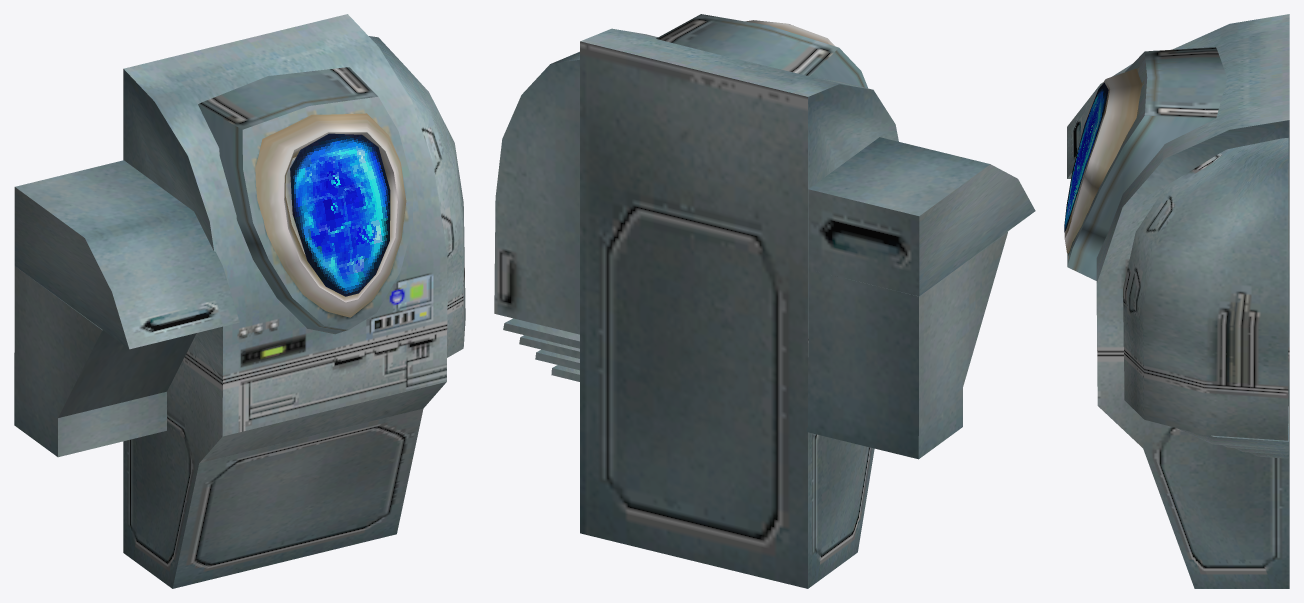
Rendered from eqp_app_organichem_stores_l0.fbx.
3 views of the same model, side by side, from view 1: azimuth 30°, elevation 25°; view 2: azimuth 150°, elevation 25°; view 3: azimuth 270°, elevation 25° (orthographic). The views are drawn at different scales.
Parts seen in each view (by area): view 1: mesh_node; view 2: mesh_node; view 3: mesh_node.
Part boxes in pixels (x1=…): mesh_node: x1=14, y1=14, x2=465, y2=588; mesh_node: x1=494, y1=14, x2=1035, y2=588; mesh_node: x1=1064, y1=14, x2=1289, y2=588.
Size of the model in its own units: 0.5512 by 0.6092 by 0.2656.
Materials: 2 (2 with a texture image).
